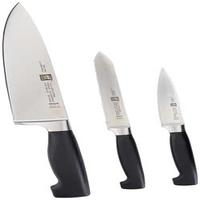knife: (2, 2, 87, 195), (90, 49, 150, 197), (151, 61, 198, 182)
